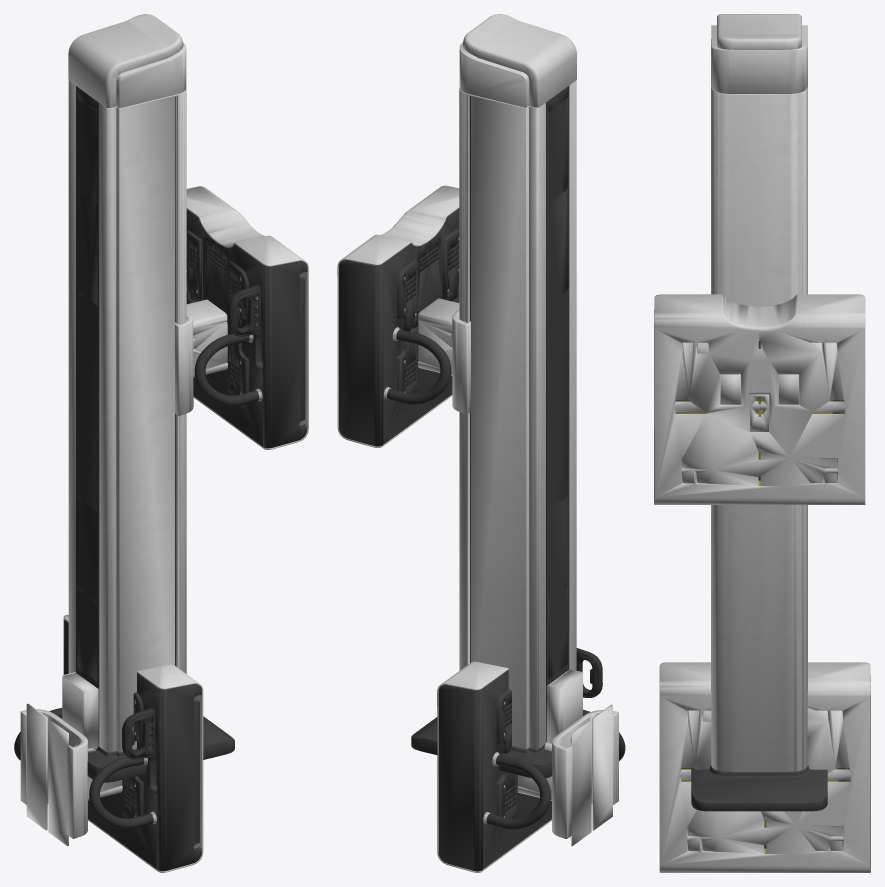
File: Xray_machine_buckyStand_a01.glb
The picture shows the model from 3 angles, left to right: view 1: azimuth 30°, elevation 25°; view 2: azimuth 150°, elevation 25°; view 3: azimuth 270°, elevation 25°; orthographic projection. The views are drawn at different scales.
Visible parts, largest first — view 1: frame_01_mesh_00, slidingContainer_01_mesh_00 (×2); view 2: frame_01_mesh_00, slidingContainer_01_mesh_00 (×2); view 3: slidingContainer_01_mesh_00 (×2), frame_01_mesh_00.
Boxes of the visible parts, left/top/right/bottom form: frame_01_mesh_00: left=60, top=14, right=234, bottom=782; slidingContainer_01_mesh_00 (×2): left=14, top=186, right=308, bottom=872; frame_01_mesh_00: left=411, top=14, right=582, bottom=778; slidingContainer_01_mesh_00 (×2): left=337, top=185, right=625, bottom=872; slidingContainer_01_mesh_00 (×2): left=654, top=294, right=870, bottom=872; frame_01_mesh_00: left=691, top=14, right=827, bottom=811.
Size of the model in its own units: 0.6677 by 2.44 by 0.5682.
Materials: 16 (13 with a texture image).
